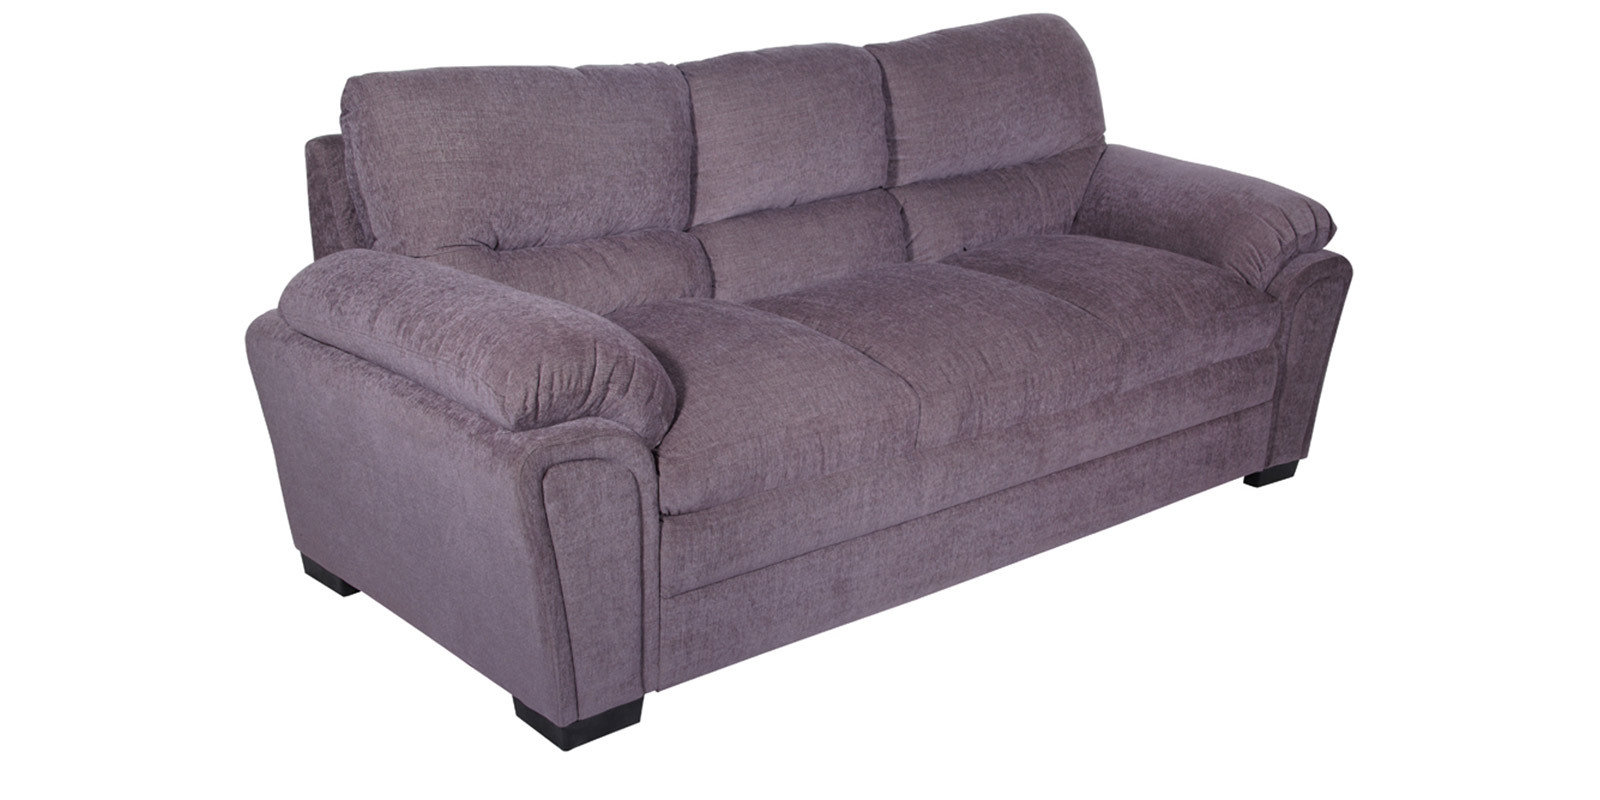Brass Three Seater Sofa in Dark Grey Colour by Furniture Mind: (243, 4, 1356, 746)
